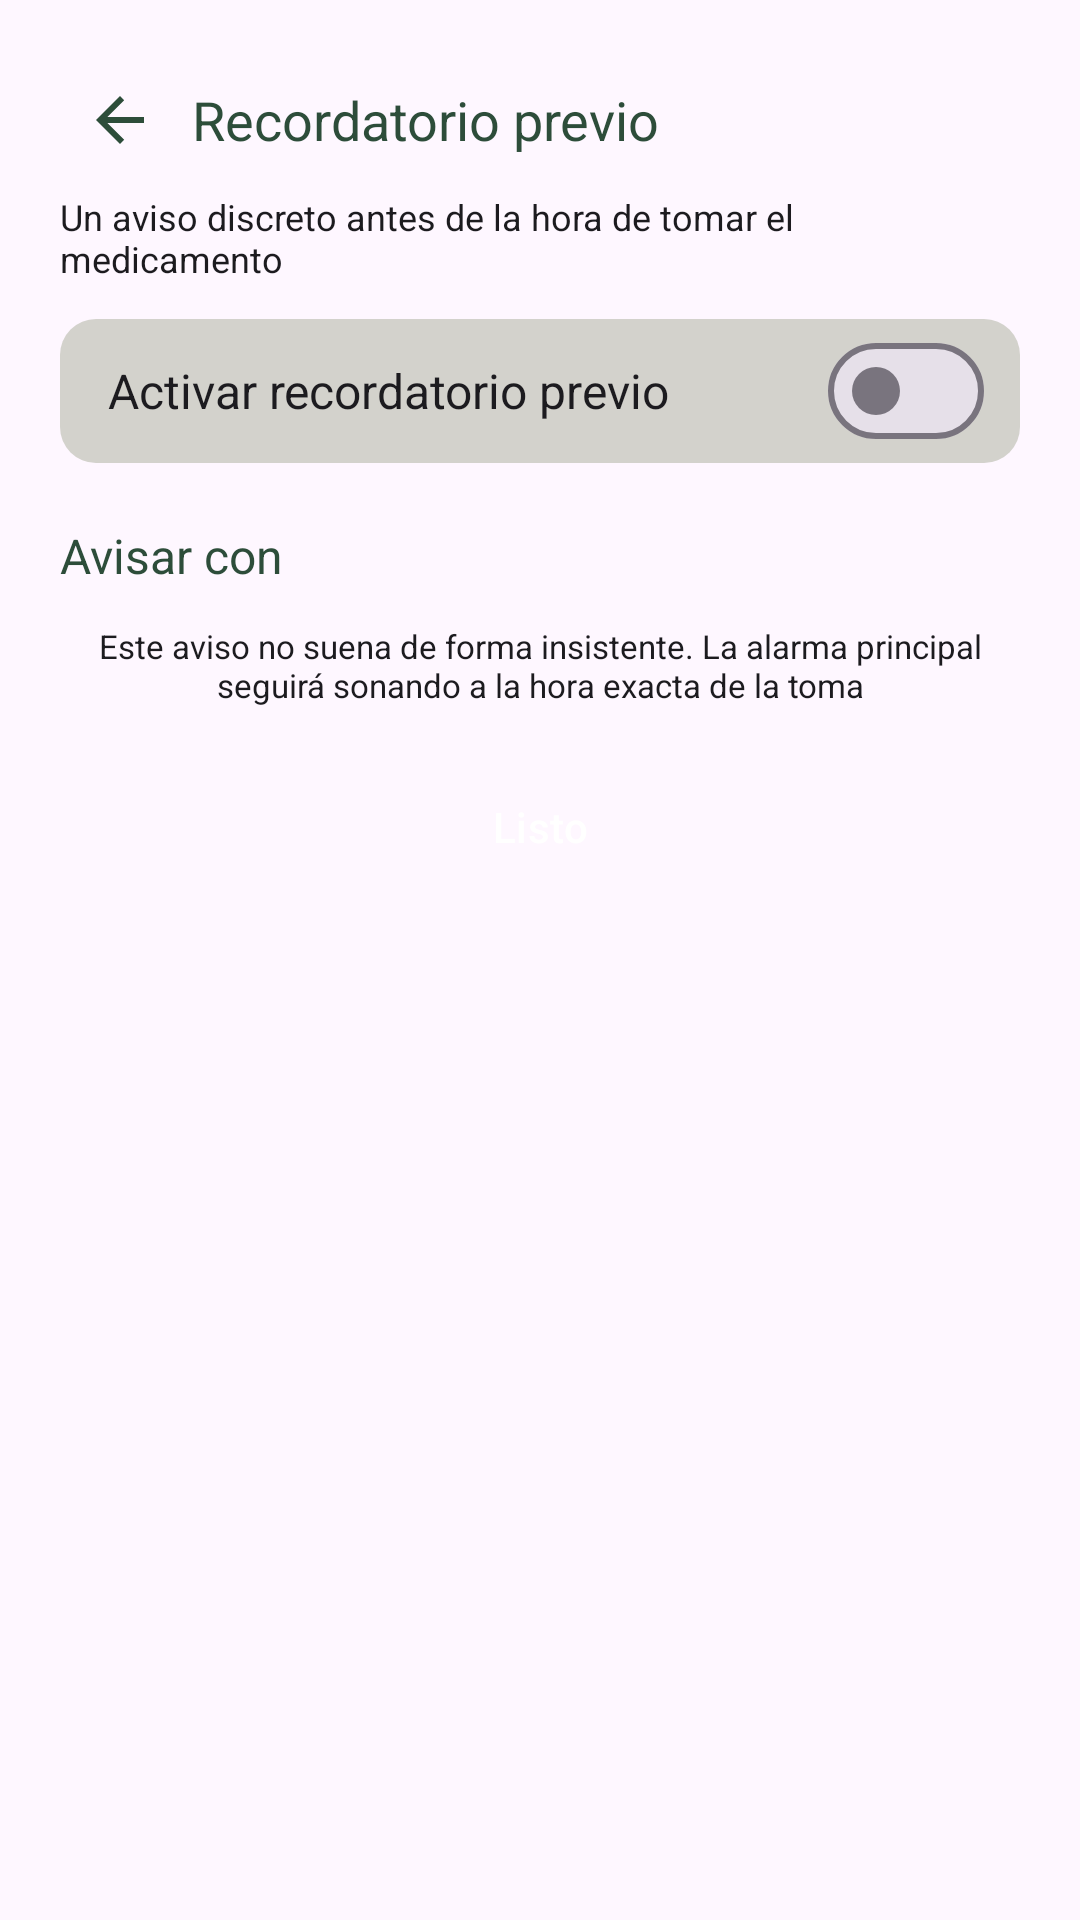

Named icons in this screenshot (1080px x 1920px) and their bounding boxes, (x1, y1, x2, y2):
Atrás: (96, 96, 144, 144)
